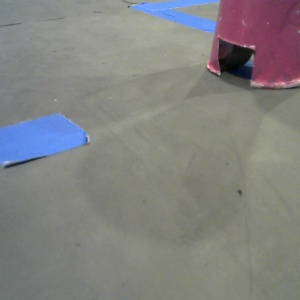Right: (246, 1, 300, 96)
